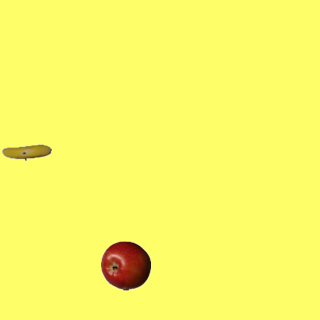Apple Braeburn: (100, 240, 150, 290)
Banana: (1, 127, 51, 177)
